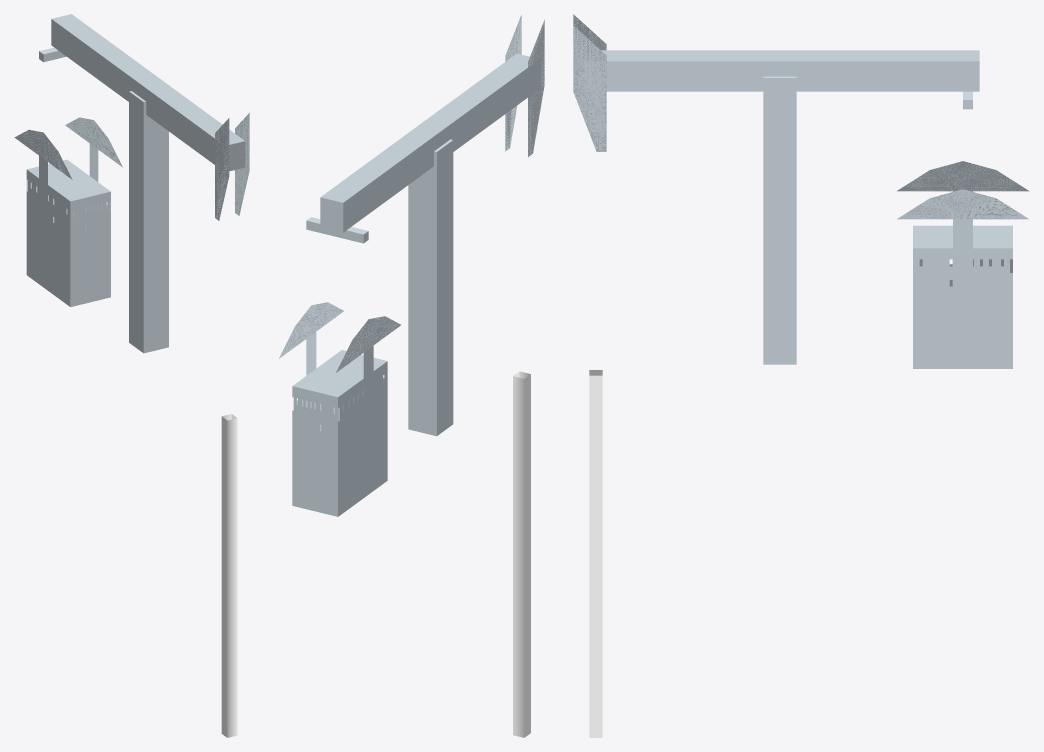
File: uvmd-0091.glb
3 views of the same model, side by side, from view 1: azimuth 30°, elevation 25°; view 2: azimuth 150°, elevation 25°; view 3: azimuth 270°, elevation 25° (orthographic). The views are drawn at different scales.
Parts seen in each view (by area): view 1: uvmd-0091; view 2: uvmd-0091; view 3: uvmd-0091.
Part boxes in pixels (x1,y1,x2,y2): uvmd-0091: (14,14,249,737); uvmd-0091: (279,15,544,737); uvmd-0091: (573,14,1029,737).
Bounding box in the file's own units: 20 × 237 × 137.
Materials: 2 (2 with a texture image).
